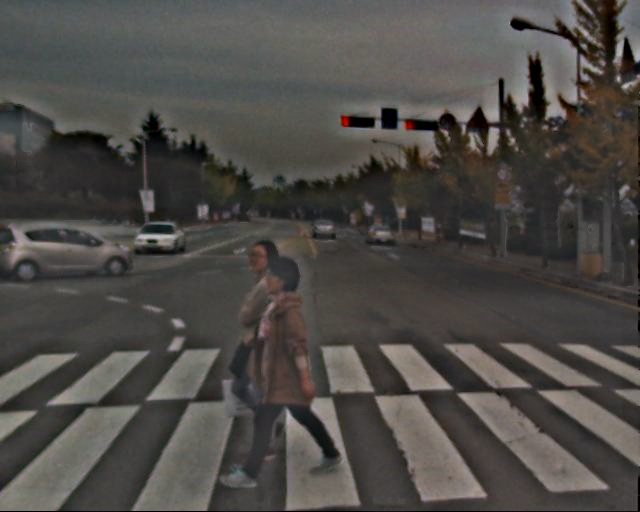person: (234, 251, 331, 486), (225, 236, 310, 458)
